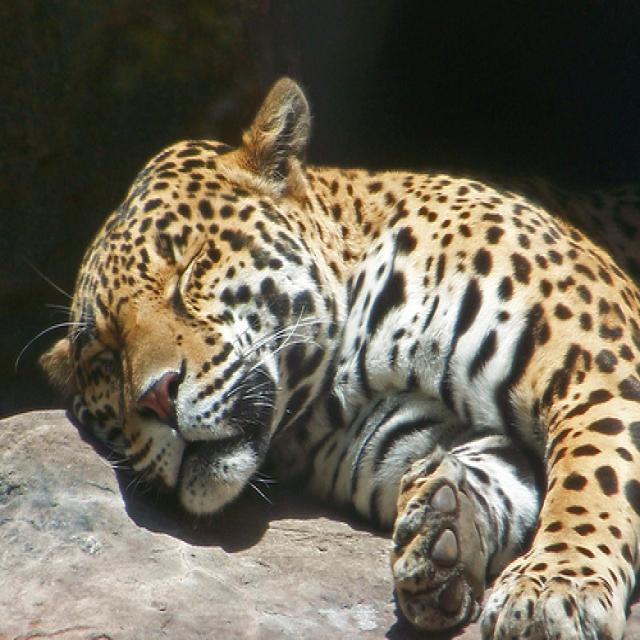Leopard: (10, 71, 638, 636)
